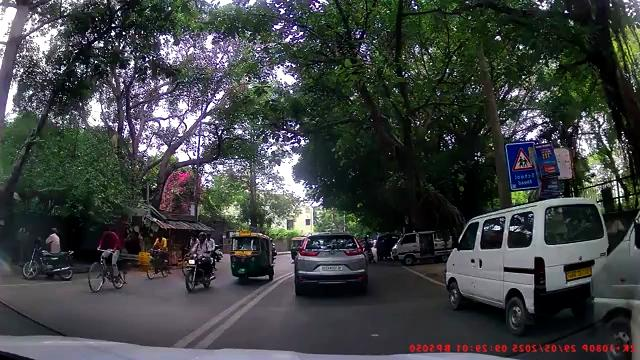motorcycle_with_helmet: (182, 229, 217, 293)
